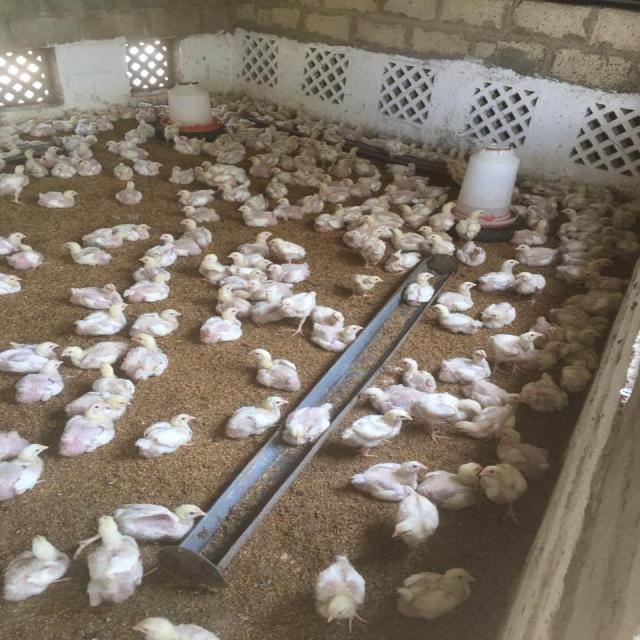poussin: (80, 515, 145, 602), (308, 552, 374, 634), (2, 527, 72, 604), (105, 497, 218, 540), (396, 568, 481, 617), (475, 455, 530, 530), (0, 429, 51, 506), (57, 402, 122, 457), (420, 458, 490, 508), (218, 394, 294, 439), (346, 458, 429, 499), (336, 408, 412, 450), (452, 397, 527, 437), (494, 426, 552, 476), (392, 490, 438, 552), (12, 357, 66, 403), (282, 400, 340, 442), (138, 414, 194, 456), (248, 347, 300, 392), (72, 301, 132, 337), (193, 305, 244, 347), (413, 392, 479, 424), (434, 349, 494, 384), (0, 338, 61, 372), (131, 616, 220, 639), (86, 361, 138, 400), (124, 330, 168, 376), (276, 286, 320, 332), (522, 376, 572, 416), (125, 304, 188, 334), (60, 342, 128, 369), (360, 384, 424, 412), (534, 322, 602, 348), (429, 304, 484, 336), (488, 329, 540, 362), (548, 306, 613, 332), (462, 378, 520, 407), (59, 239, 114, 269), (516, 336, 566, 368), (19, 144, 68, 176), (0, 229, 46, 263), (565, 287, 624, 313), (122, 272, 173, 302), (178, 214, 214, 256), (480, 258, 522, 294), (398, 356, 438, 393), (511, 269, 552, 305), (1, 163, 38, 202), (314, 321, 364, 349), (556, 258, 606, 286), (242, 298, 288, 327), (211, 282, 258, 310), (200, 161, 252, 186), (70, 282, 126, 305), (244, 274, 290, 302), (266, 238, 312, 264), (510, 218, 552, 246), (439, 279, 478, 309), (74, 226, 127, 248), (144, 228, 180, 260), (520, 194, 563, 220), (308, 306, 350, 332), (238, 228, 274, 258), (560, 360, 596, 390), (511, 242, 560, 264), (422, 202, 460, 230), (116, 121, 160, 145), (582, 268, 626, 292), (452, 210, 486, 241), (406, 272, 434, 308), (201, 252, 232, 284), (131, 256, 172, 280), (360, 226, 384, 266), (561, 228, 602, 250), (236, 259, 272, 284), (68, 148, 100, 176), (390, 224, 427, 248), (603, 228, 640, 252), (56, 115, 90, 141), (562, 206, 598, 230), (40, 188, 82, 208), (267, 263, 309, 283), (482, 302, 517, 326), (223, 252, 264, 272), (306, 182, 351, 200), (221, 98, 256, 121), (382, 250, 418, 272), (111, 218, 150, 238), (218, 184, 257, 204), (260, 174, 292, 198), (236, 206, 274, 226), (350, 272, 384, 294), (216, 140, 250, 162), (457, 241, 489, 264), (107, 141, 150, 158), (127, 156, 163, 176), (294, 167, 334, 185), (359, 214, 401, 231), (352, 174, 387, 194), (23, 119, 59, 138), (272, 200, 306, 220), (246, 154, 272, 180), (176, 206, 218, 222), (397, 205, 425, 229), (568, 246, 610, 262), (116, 180, 146, 202), (0, 271, 27, 295), (412, 178, 448, 196), (197, 170, 235, 187), (428, 233, 456, 256), (336, 204, 364, 227), (310, 211, 342, 231), (382, 163, 424, 178), (291, 130, 321, 151), (58, 132, 96, 148), (136, 101, 168, 120), (168, 164, 198, 184), (604, 204, 634, 224), (342, 226, 369, 248), (392, 172, 429, 188), (0, 124, 26, 146), (384, 182, 414, 201), (268, 135, 298, 154), (89, 114, 117, 134), (286, 146, 314, 166), (171, 138, 202, 156), (178, 188, 214, 203), (440, 145, 468, 164), (415, 141, 443, 160), (302, 190, 325, 213), (112, 160, 136, 182), (253, 126, 277, 147), (418, 225, 451, 240), (320, 140, 344, 160), (322, 120, 346, 140), (294, 117, 324, 133), (329, 158, 355, 176), (448, 158, 466, 182), (250, 104, 276, 120), (272, 166, 296, 183), (228, 122, 250, 140), (160, 124, 182, 142), (244, 194, 268, 210), (386, 138, 410, 154), (347, 146, 366, 166), (368, 196, 390, 213), (343, 124, 368, 138), (114, 104, 138, 118), (274, 114, 296, 128), (362, 134, 384, 146), (308, 182, 323, 182)
